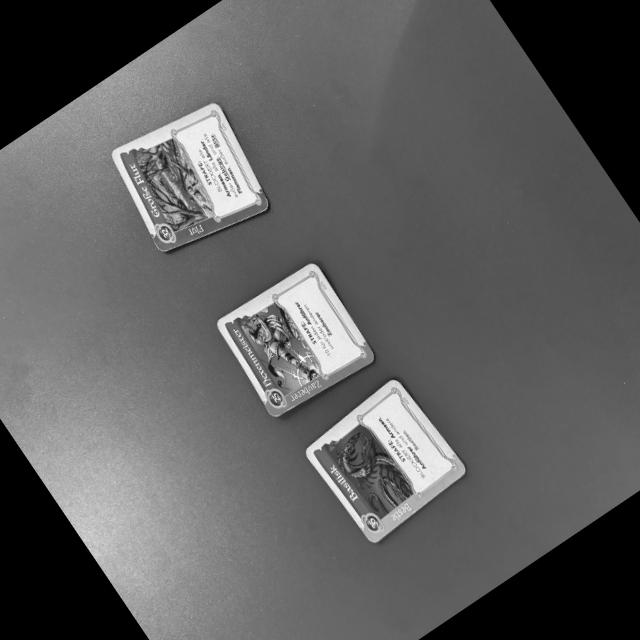Basilisk: (303, 376, 469, 545)
Great Flood: (109, 101, 272, 255)
Warlock Lord: (213, 262, 379, 420)
